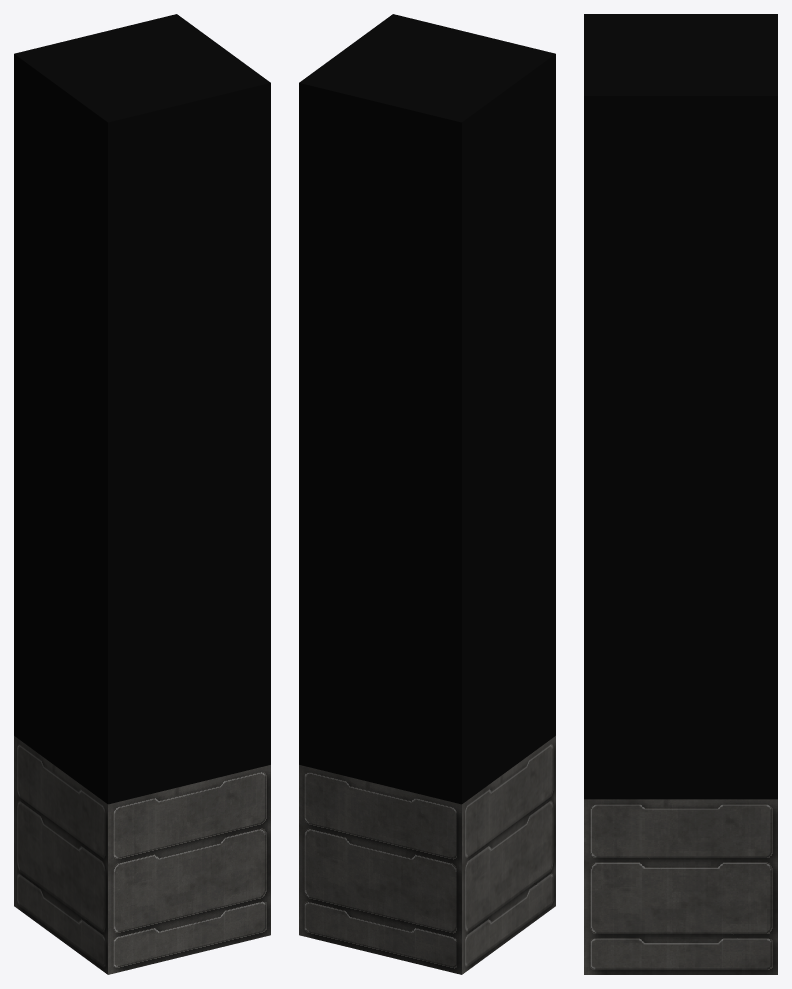
The model's file is Walltexture1.glb.
3 renders of one model, left to right at view 1: azimuth 30°, elevation 25°; view 2: azimuth 150°, elevation 25°; view 3: azimuth 270°, elevation 25°, orthographic. The views are drawn at different scales.
Visible parts, largest first — view 1: Cube.003; view 2: Cube.003; view 3: Cube.003.
Boxes of the visible parts, x1,y1,x2,y2 form: Cube.003: (14,14,270,974); Cube.003: (299,14,555,974); Cube.003: (584,14,777,974).
Size of the model in its own units: 2 by 10 by 2.
Materials: 2 (1 with a texture image).
